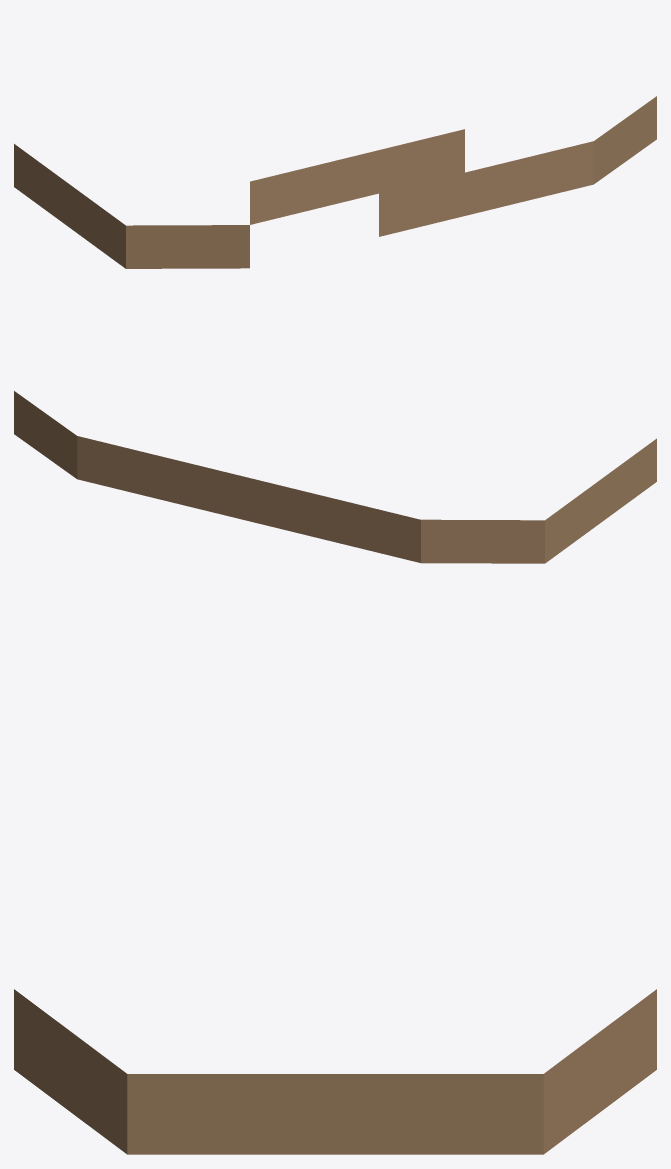
The model's file is 1424-Buildings-shell-pieces-facade-bay-wall-round-an-opening-reveals-sill-head-emitBa.glb.
The picture shows the model from 3 angles, top to bottom: view 1: azimuth 30°, elevation 25°; view 2: azimuth 150°, elevation 25°; view 3: azimuth 270°, elevation 25°; orthographic projection. The views are drawn at different scales.
Visible parts, largest first — view 1: emitBay; view 2: emitBay; view 3: emitBay.
Part boxes in pixels (bbox=[...]): emitBay: bbox=[14, 96, 656, 268]; emitBay: bbox=[14, 391, 656, 563]; emitBay: bbox=[14, 989, 656, 1154].
Size of the model in its own units: 39 by 6.1 by 22.
